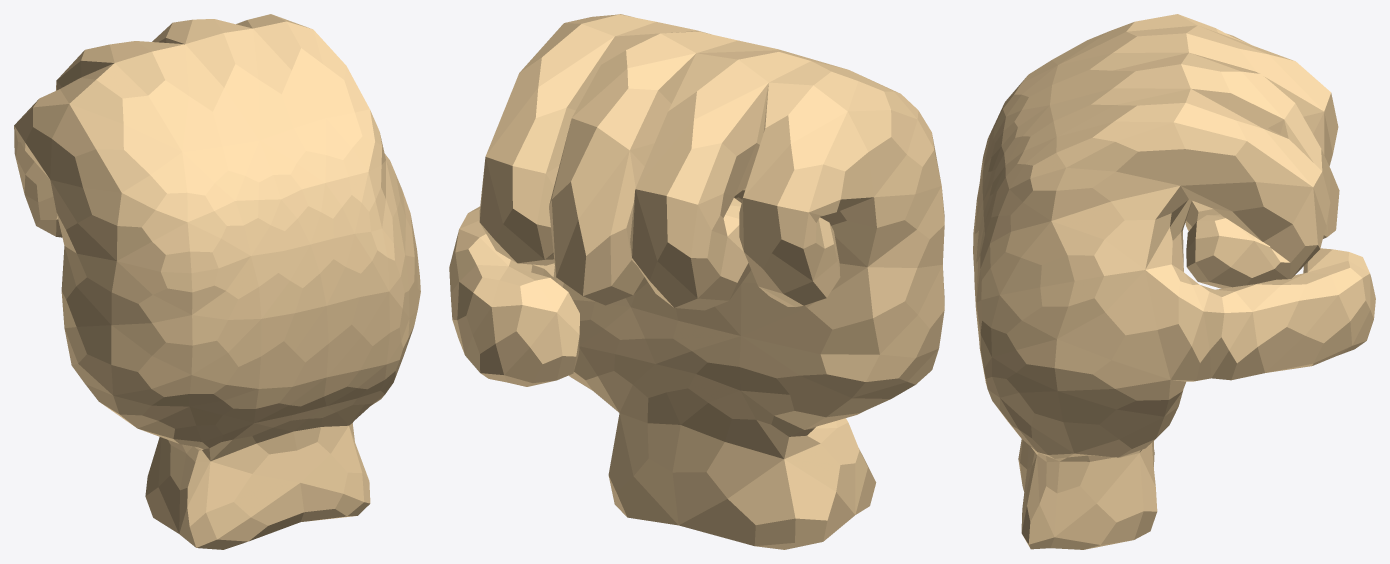
File: RightHandClose.obj
3 views of the same model, side by side, from view 1: azimuth 30°, elevation 25°; view 2: azimuth 150°, elevation 25°; view 3: azimuth 270°, elevation 25° (orthographic). The views are drawn at different scales.
Visible parts, largest first — view 1: 立方体; view 2: 立方体; view 3: 立方体.
Boxes of the visible parts, left/top/right/bottom form: 立方体: left=14, top=14, right=420, bottom=549; 立方体: left=449, top=14, right=944, bottom=549; 立方体: left=973, top=14, right=1375, bottom=549.
Size of the model in its own units: 4.42 by 5.66 by 4.52.
Materials: 1 (1 with a texture image).
